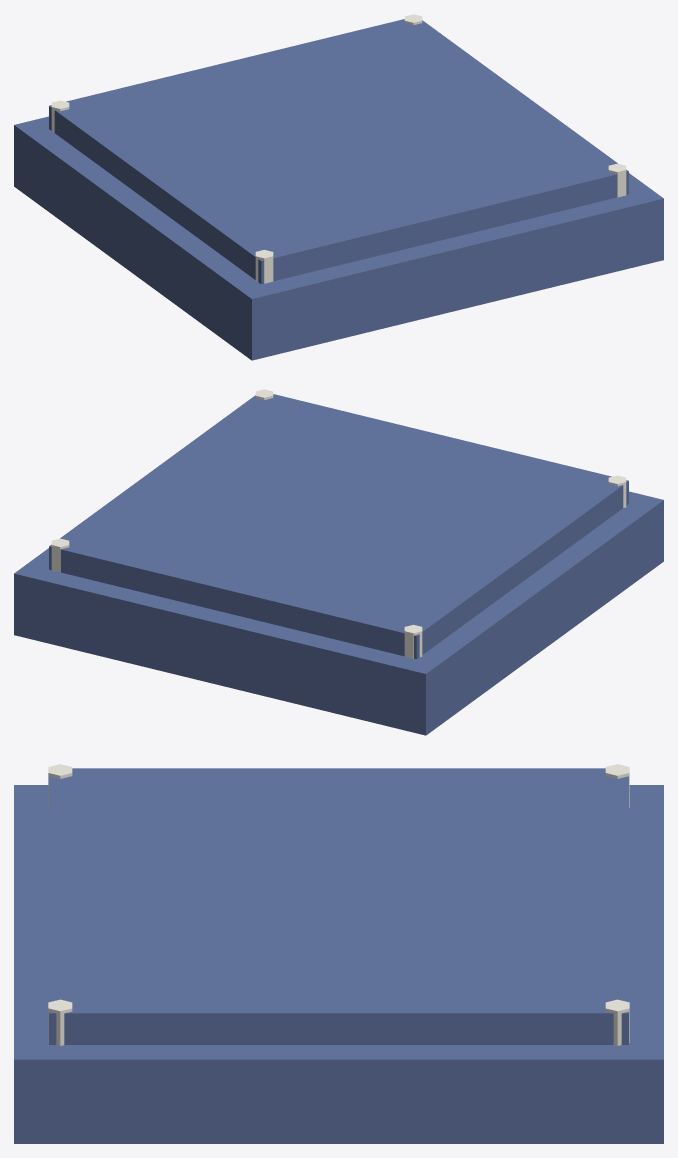
Rendered from floor_cushion.glb.
3 views of the same model, one above another, from view 1: azimuth 30°, elevation 25°; view 2: azimuth 150°, elevation 25°; view 3: azimuth 270°, elevation 25° (orthographic). The views are drawn at different scales.
Parts seen in each view (by area): view 1: floor-cushion-indigo, floor-cushion-cream; view 2: floor-cushion-indigo, floor-cushion-cream; view 3: floor-cushion-indigo, floor-cushion-cream.
Boxes of the visible parts, x1,y1,x2,y2 form: floor-cushion-indigo: (14,19,663,360); floor-cushion-cream: (51,14,626,283); floor-cushion-indigo: (14,394,663,735); floor-cushion-cream: (51,389,626,658); floor-cushion-indigo: (14,768,663,1143); floor-cushion-cream: (48,764,629,1045).
Size of the model in its own units: 0.56 by 0.113 by 0.56.
